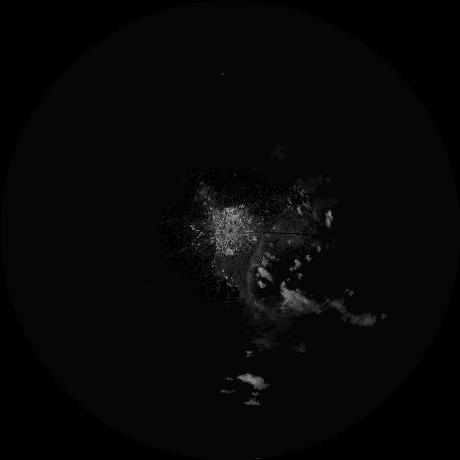frontgust: (245, 235, 265, 300)
